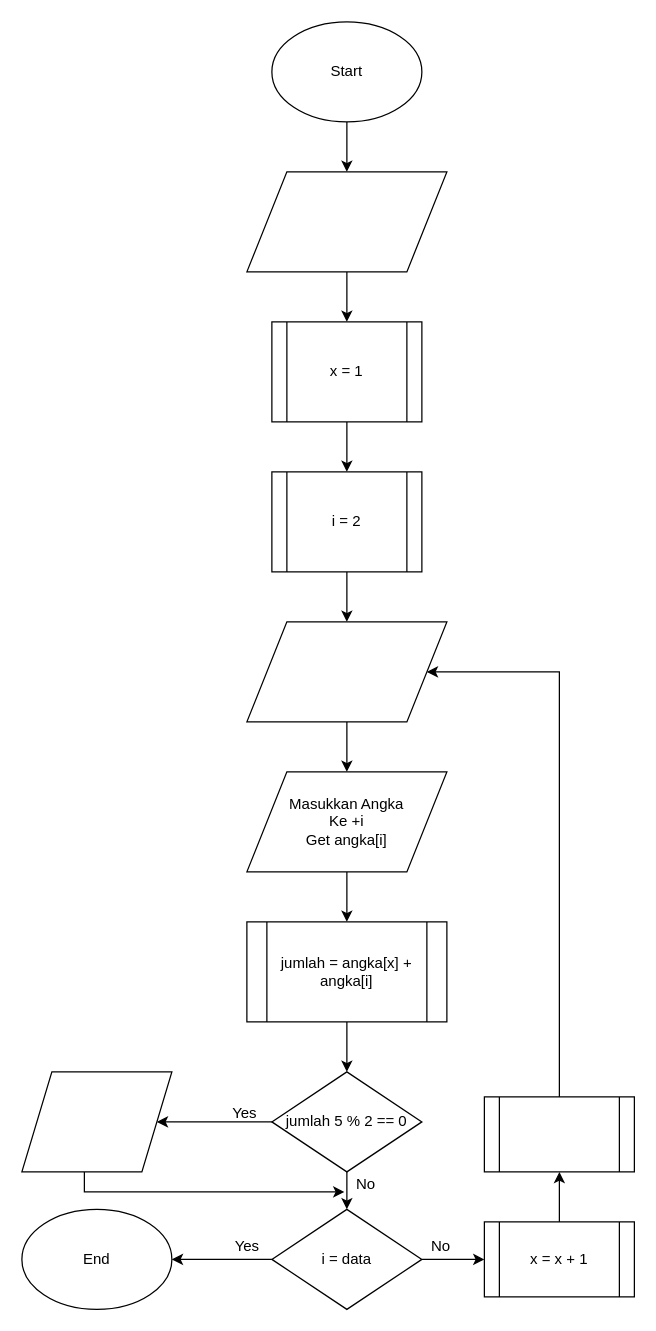
Image size: 656x1331. Some labels were removed from this diagram. The box of each missing label's shape, as (x1, y1, x2, y2) in pixels:
i = i + 1: (483, 1096, 634, 1172)
Masukkan Angka Ke +x Get angka[x]: (246, 621, 447, 722)
Masukkan Banyak Angka Get data: (246, 171, 447, 272)
Prin jumlah: (21, 1071, 172, 1172)
